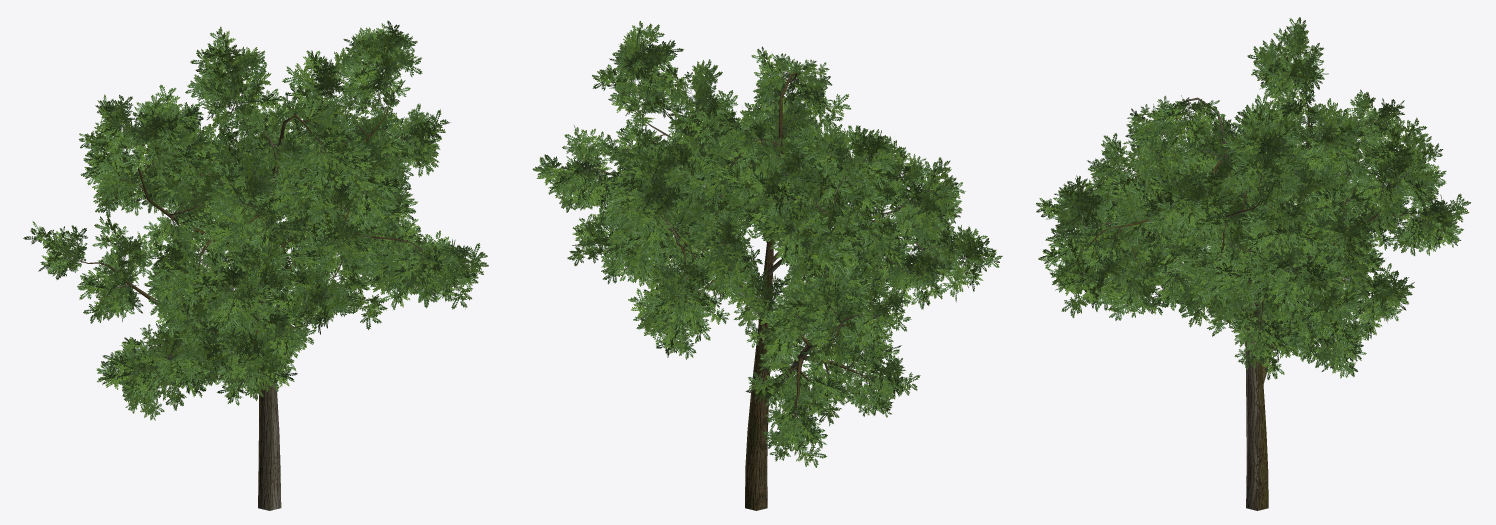
File: strom_jasan.glb
3 views of the same model, side by side, from view 1: azimuth 30°, elevation 25°; view 2: azimuth 150°, elevation 25°; view 3: azimuth 270°, elevation 25° (orthographic). The views are drawn at different scales.
Parts seen in each view (by area): view 1: leaves, bark; view 2: leaves, bark; view 3: leaves, bark.
Boxes of the visible parts, <box> form: leaves: <box>23,20,488,420</box>; bark: <box>64,63,426,510</box>; leaves: <box>532,21,1002,467</box>; bark: <box>581,72,962,510</box>; leaves: <box>1036,17,1470,379</box>; bark: <box>1068,74,1428,510</box>.
Bounding box in the file's own units: 70.2 × 76.94 × 68.83.
2 materials, 2 textured.
